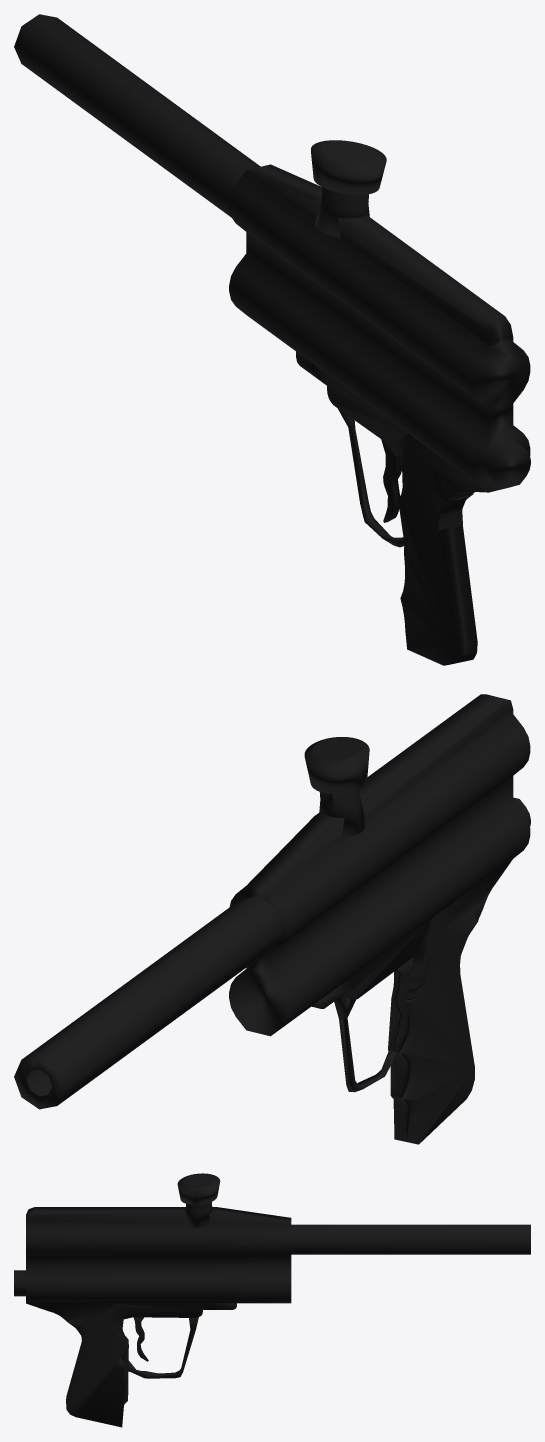
File: PistolaF.fbx
3 renders of one model, top to bottom at view 1: azimuth 30°, elevation 25°; view 2: azimuth 150°, elevation 25°; view 3: azimuth 270°, elevation 25°, orthographic. The views are drawn at different scales.
Parts seen in each view (by area): view 1: Pistola; view 2: Pistola; view 3: Pistola.
Part boxes in pixels (x1=…): Pistola: x1=14, y1=14, x2=530, y2=665; Pistola: x1=14, y1=694, x2=530, y2=1144; Pistola: x1=14, y1=1173, x2=530, y2=1427.
Bounding box in the file's own units: 38.49 × 253 × 486.
Materials: 1 (1 with a texture image).
